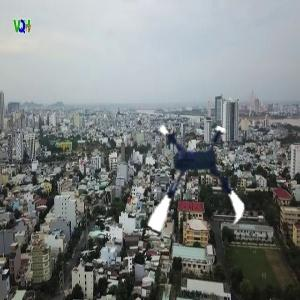drone: (131, 121, 256, 246)
